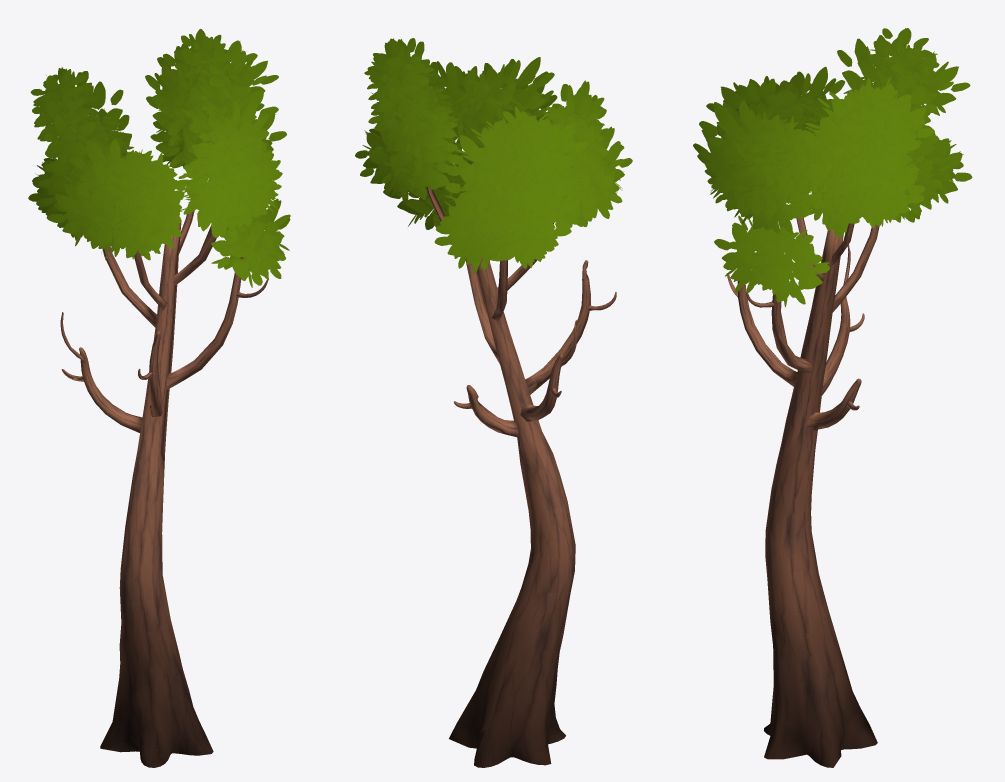
File: tree4.glb
3 renders of one model, left to right at view 1: azimuth 30°, elevation 25°; view 2: azimuth 150°, elevation 25°; view 3: azimuth 270°, elevation 25°, orthographic. The views are drawn at different scales.
Parts seen in each view (by area): view 1: CommonTree_4; view 2: CommonTree_4; view 3: CommonTree_4.
Boxes of the visible parts, x1,y1,x2,y2 form: CommonTree_4: (28,29,290,767); CommonTree_4: (355,38,632,767); CommonTree_4: (693,28,972,767).
Bounding box in the file's own units: 3.83 × 9.44 × 3.76.
Materials: 2 (2 with a texture image).
